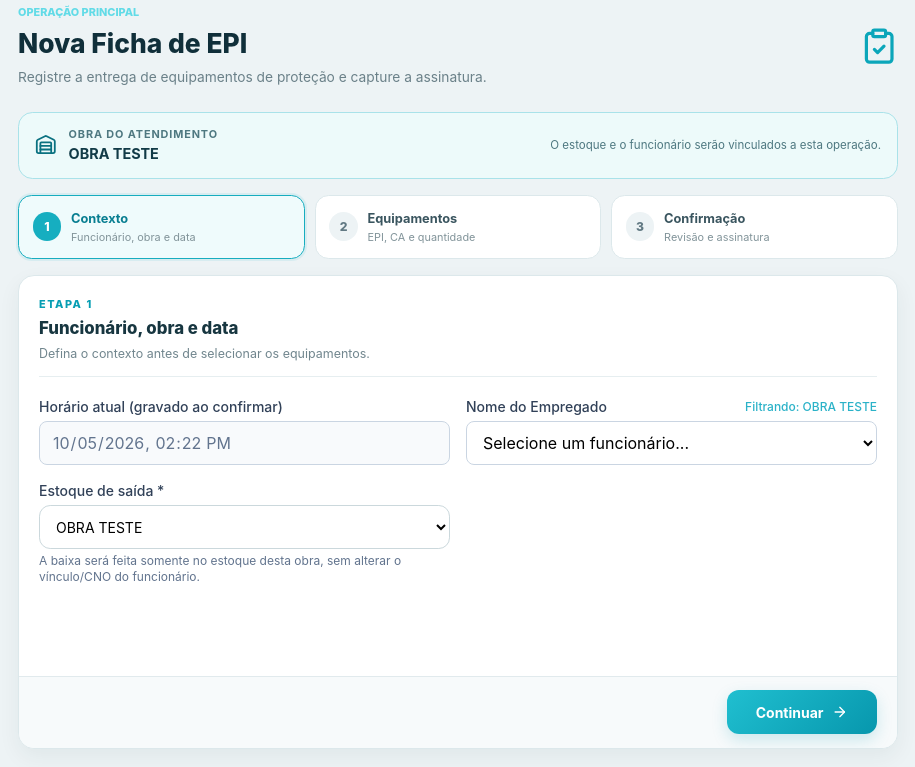
Test: validações de entrega em componente isolado › bloqueia continuar sem funcionário
Click the button "Continuar".
click(802, 712)  # box [727,690,877,734]
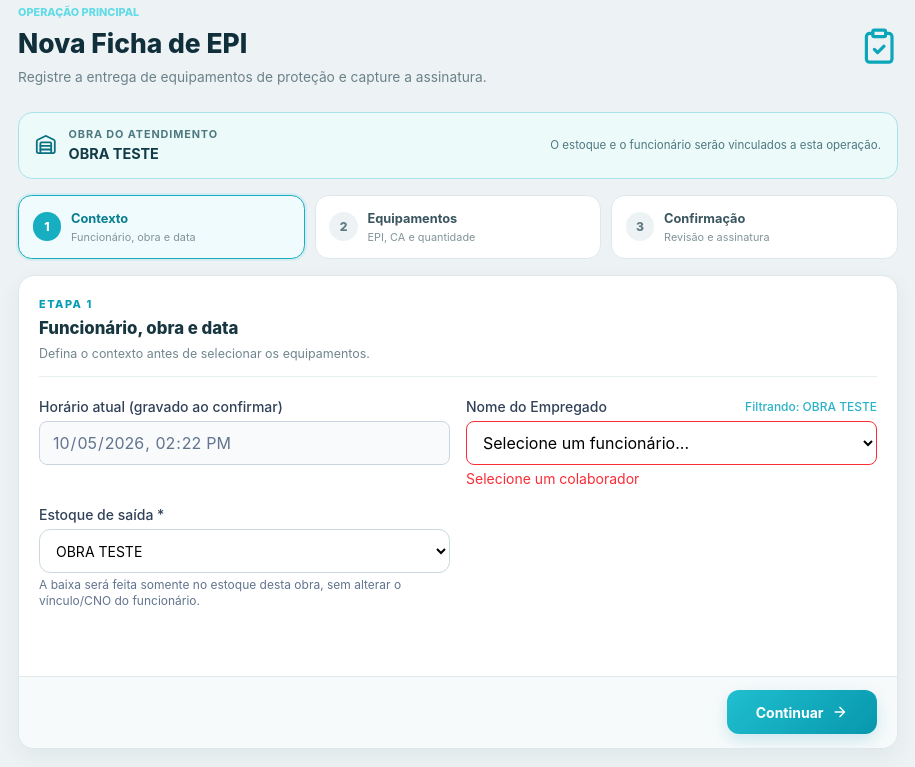
Expected: the text "Selecione um colaborador" is shown, [466,470,639,487]
